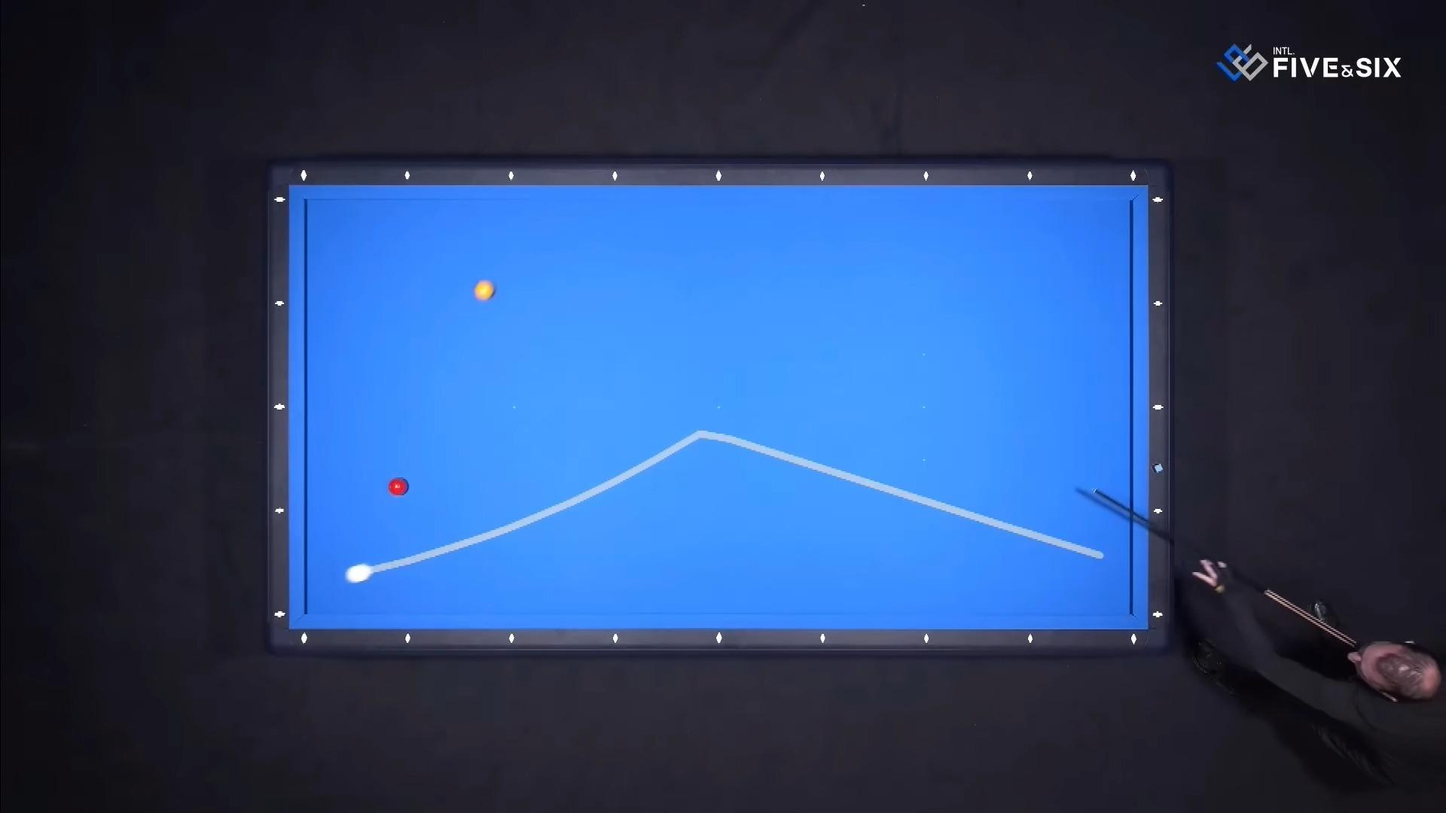Red: (385, 480, 410, 498)
White: (342, 565, 372, 586)
Yellow: (473, 277, 497, 301)
